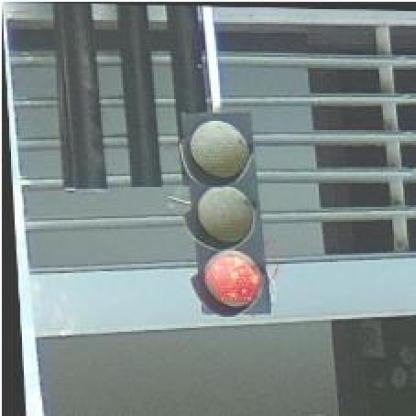red: (176, 109, 267, 312)
